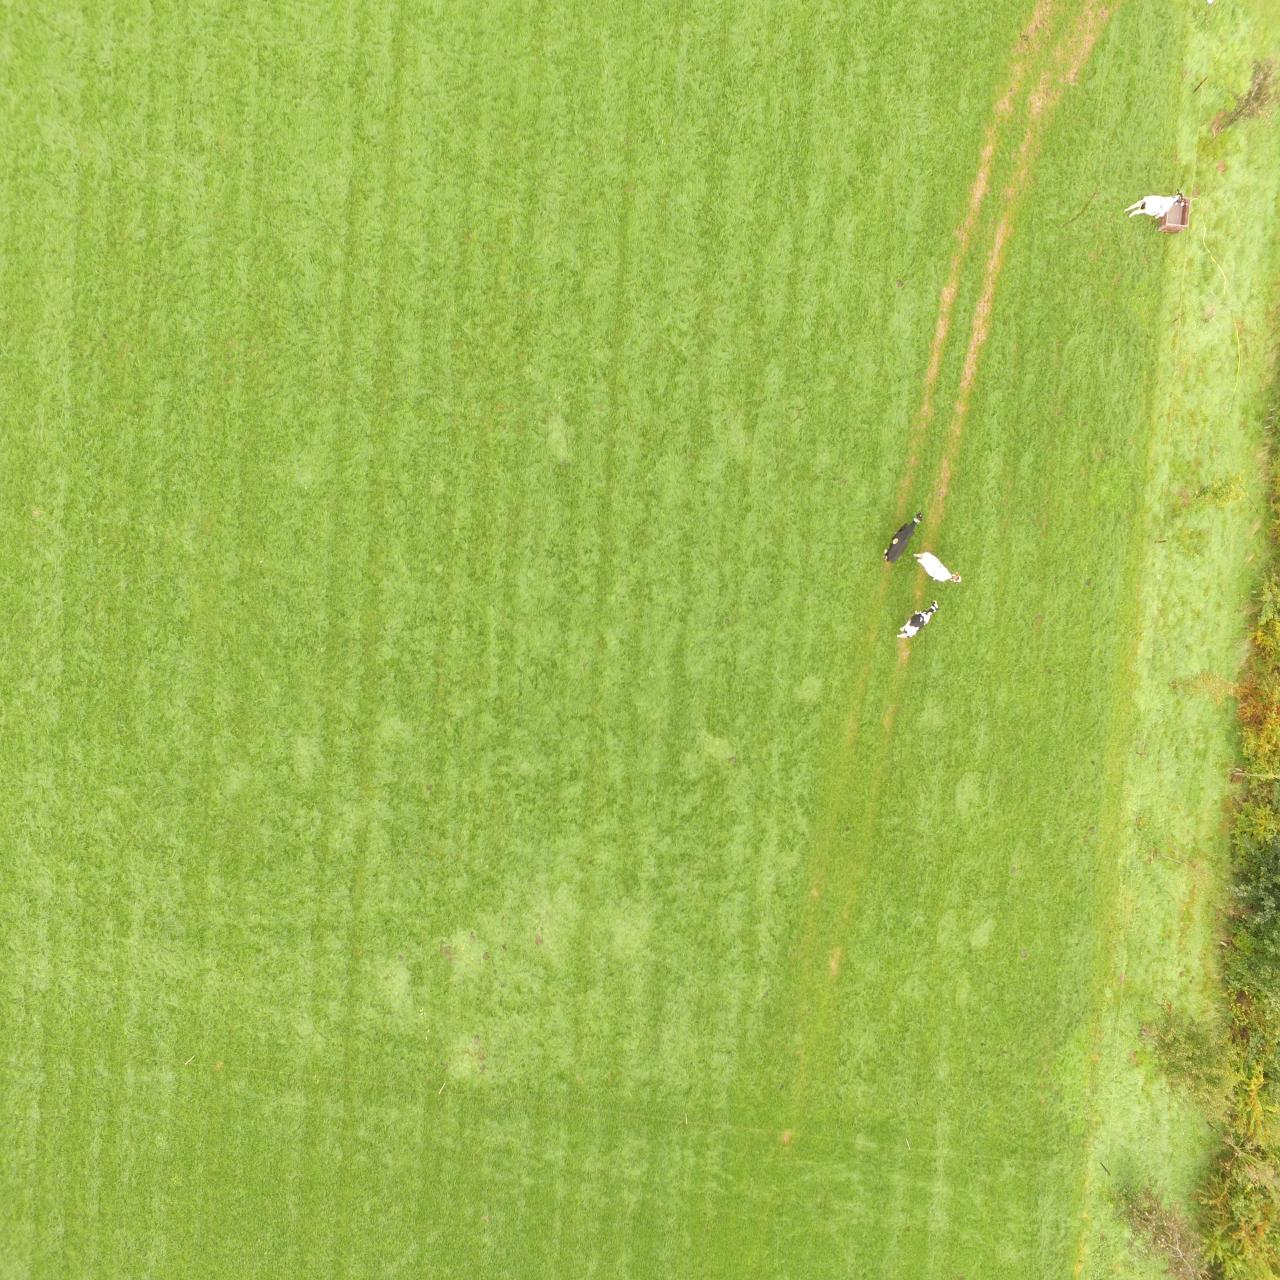cow: (883, 506, 924, 561), (1123, 188, 1184, 219), (897, 599, 938, 639), (913, 551, 962, 584)
